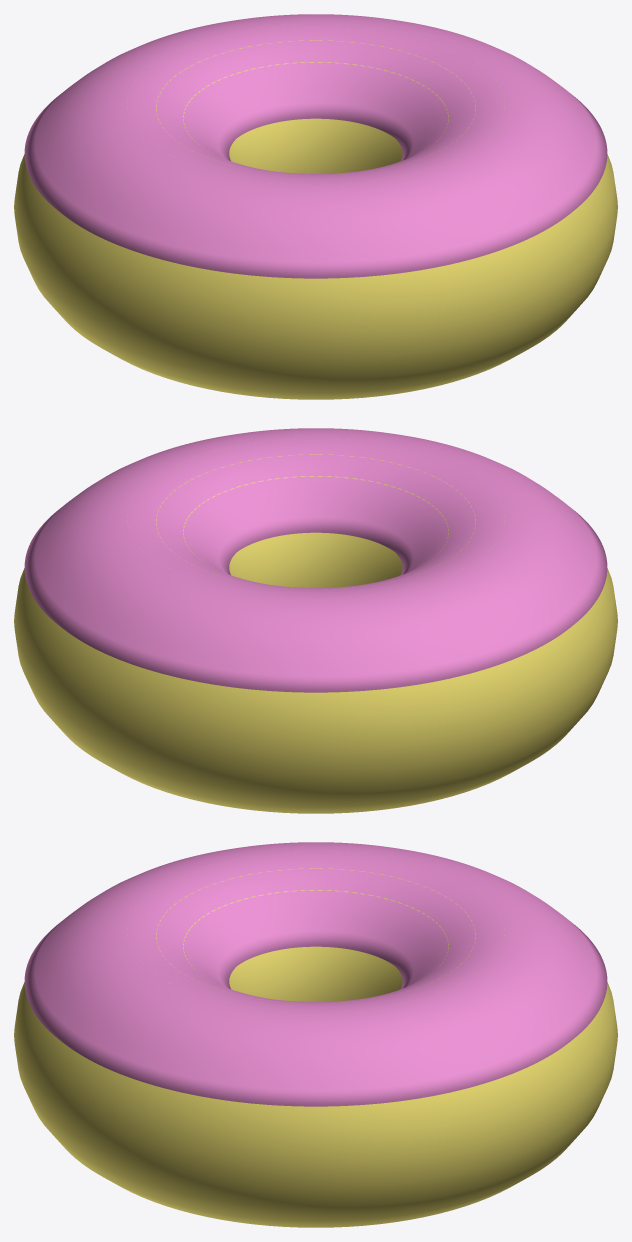
The model's file is pink_donut_3.fbx.
3 renders of one model, top to bottom at view 1: azimuth 30°, elevation 25°; view 2: azimuth 150°, elevation 25°; view 3: azimuth 270°, elevation 25°, orthographic.
Visible parts, largest first — view 1: Torus.001, Torus; view 2: Torus.001, Torus; view 3: Torus.001, Torus.
Boxes of the visible parts, left/top/right/bottom form: Torus.001: left=24, top=14, right=607, bottom=278; Torus: left=14, top=25, right=617, bottom=399; Torus.001: left=24, top=428, right=607, bottom=692; Torus: left=14, top=439, right=617, bottom=813; Torus.001: left=24, top=842, right=607, bottom=1106; Torus: left=14, top=853, right=617, bottom=1227.
Bounding box in the file's own units: 12.74 × 4.78 × 12.74.
